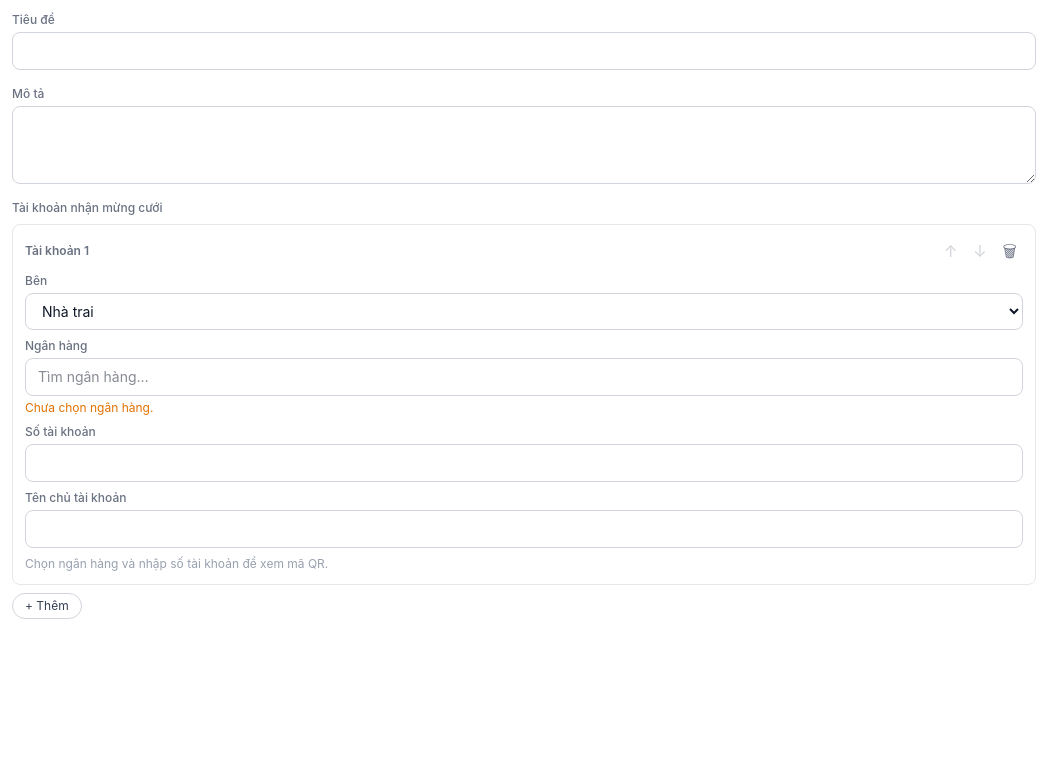
Test case: GiftPanel › strips non-digit characters from the account number as the user types
In the field labelled "Số tài khoản": (524, 463) 25,444 -> 1023,482, type "0abc123-456 def"
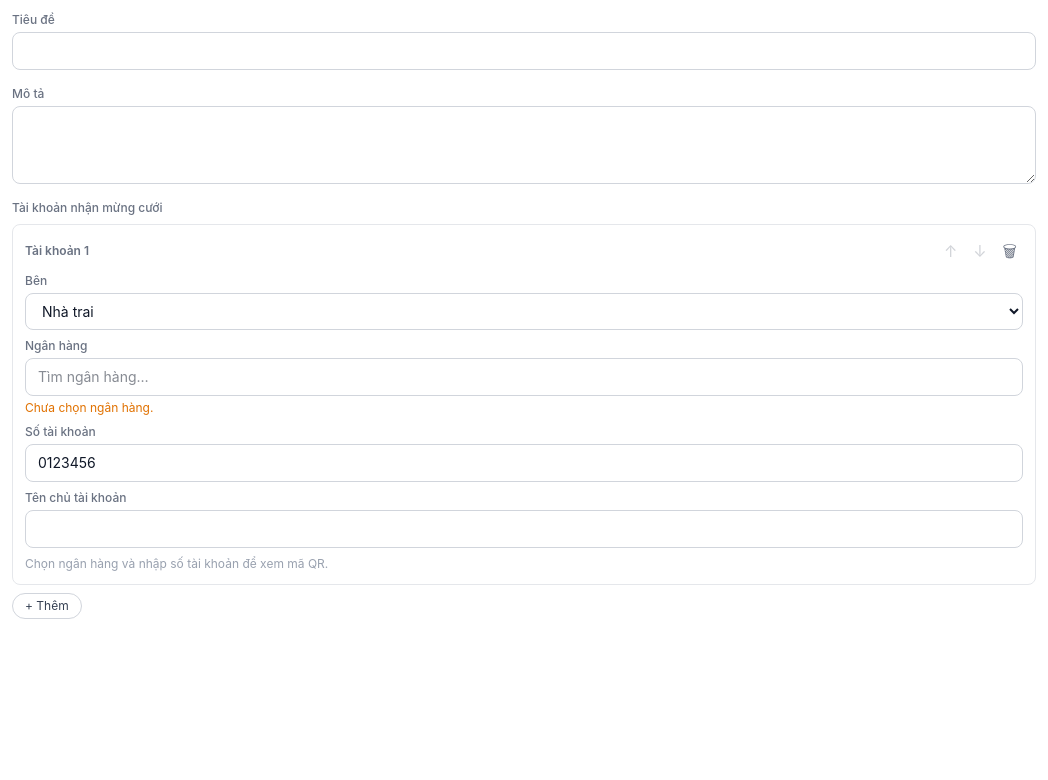
Result: the field labelled "Số tài khoản" holds "0123456" at 25,444 -> 1023,482
